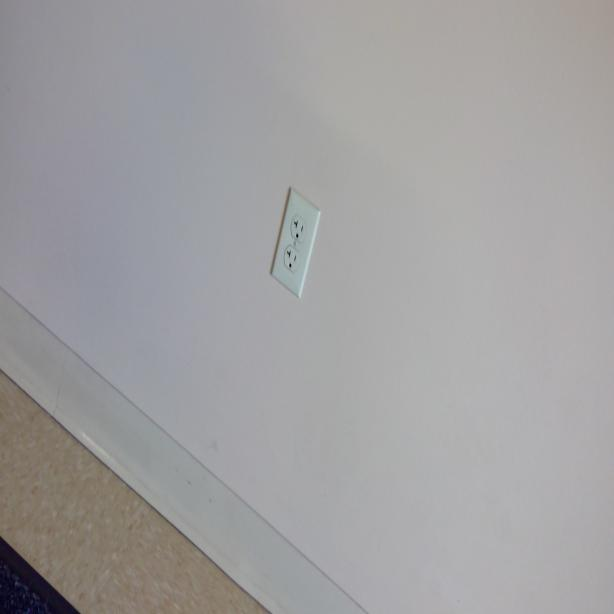typeb: (290, 215, 307, 241), (284, 247, 299, 270)
